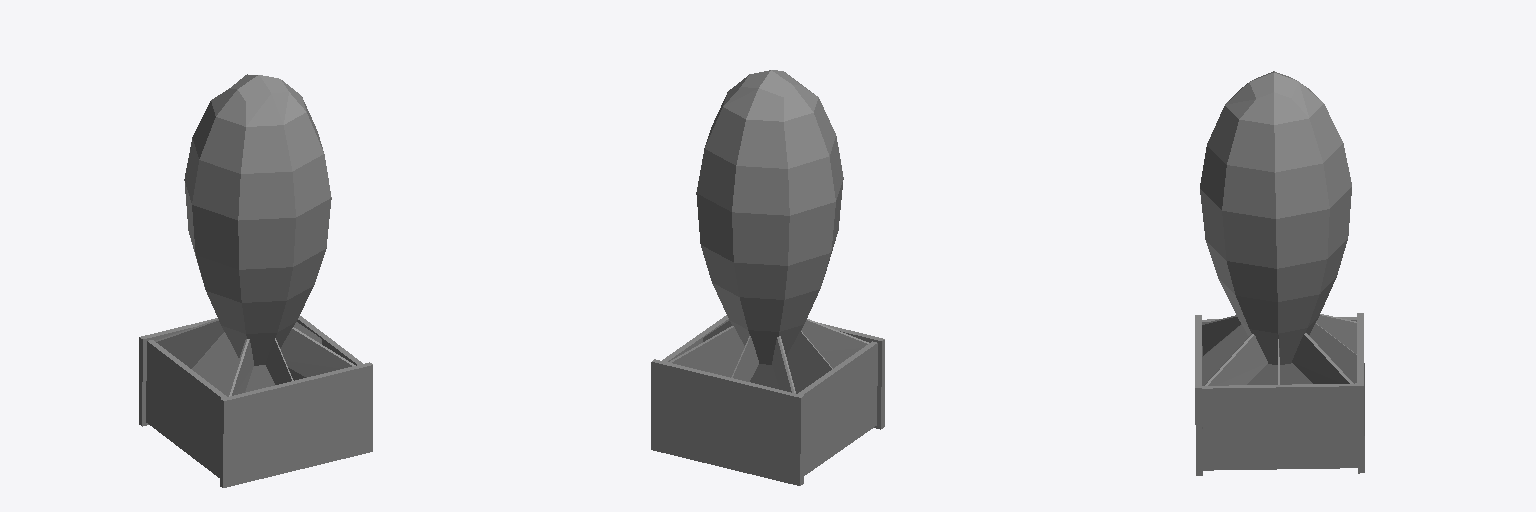
File: Bomb.obj
3 views of the same model, side by side, from view 1: azimuth 30°, elevation 25°; view 2: azimuth 150°, elevation 25°; view 3: azimuth 270°, elevation 25° (orthographic).
Visible parts, largest first — view 1: MissileBomb; view 2: MissileBomb; view 3: MissileBomb.
Boxes of the visible parts, x1,y1,x2,y2 form: MissileBomb: [139, 74, 372, 487]; MissileBomb: [651, 70, 884, 485]; MissileBomb: [1195, 71, 1364, 475].
Bounding box in the file's own units: 14.8 × 34.72 × 14.61.